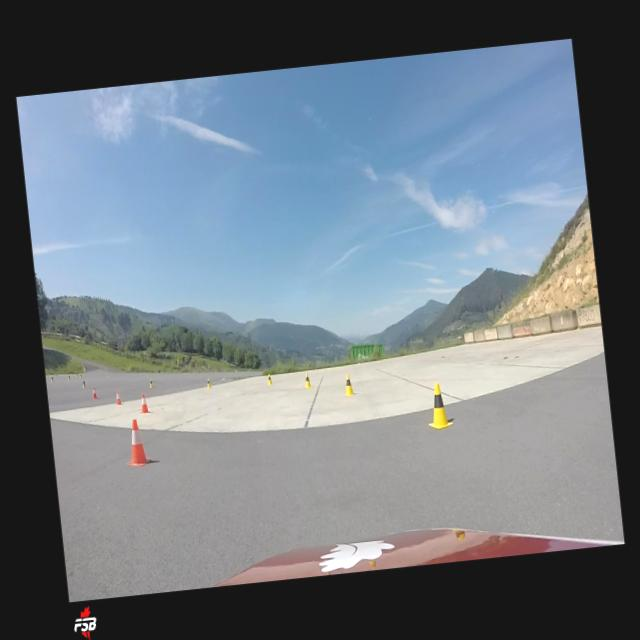orange_cone: (122, 418, 152, 468), (138, 392, 150, 413), (114, 389, 123, 406), (90, 386, 98, 400)
yellow_cone: (423, 382, 454, 429), (343, 374, 354, 396), (303, 372, 311, 388), (266, 372, 272, 384), (206, 377, 212, 388), (148, 378, 154, 388), (82, 380, 86, 388), (50, 377, 54, 382)
